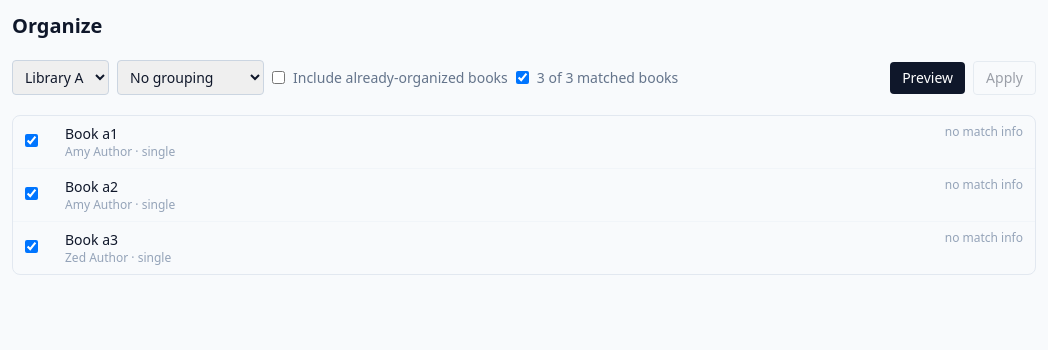
it: OrganizePage bulk selection › selects and clears a single group with its group checkbox
Check: the text "3 of 3 matched books" is shown, box [537, 68, 678, 88]
Select "Group by author" in the dropdown named "group books by" at [190, 78], box [117, 60, 264, 95]
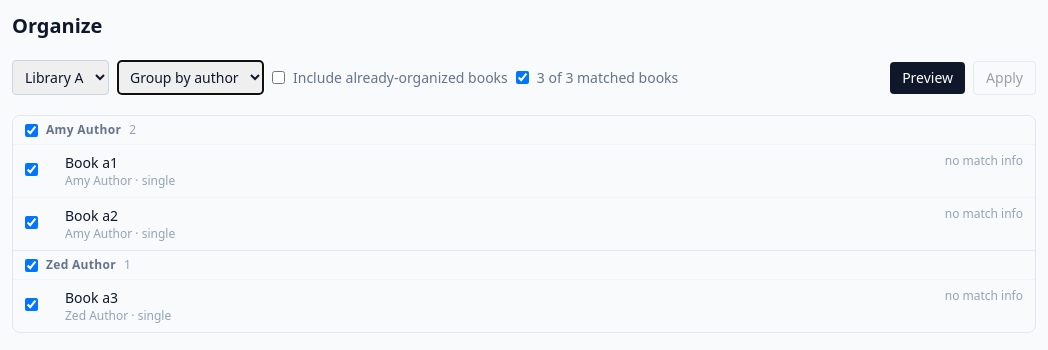
Click the checkbox named "select all in amy author" at [32, 130], box [25, 124, 38, 136]
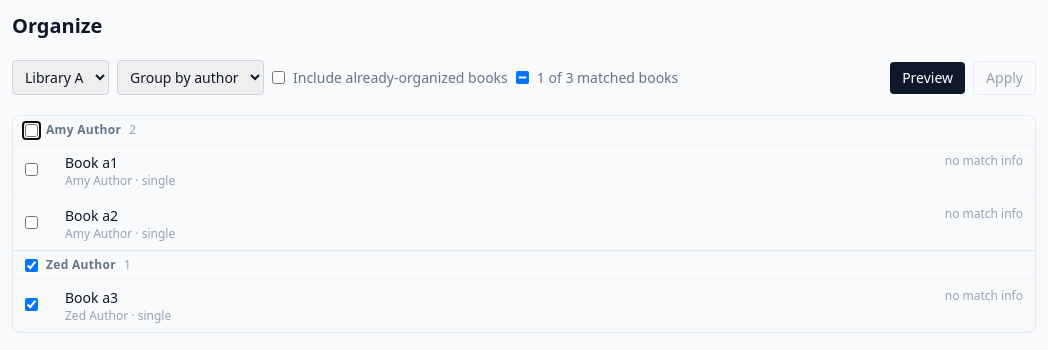
Check: the checkbox named "select book a3" is checked, box [25, 298, 38, 311]
Check: the text "1 of 3 matched books" is shown, box [537, 68, 678, 88]
Check: the checkbox named "select book a1" is not checked, box [25, 163, 38, 176]
Click the checkbox named "select all in amy author" at [32, 130], box [25, 124, 38, 136]
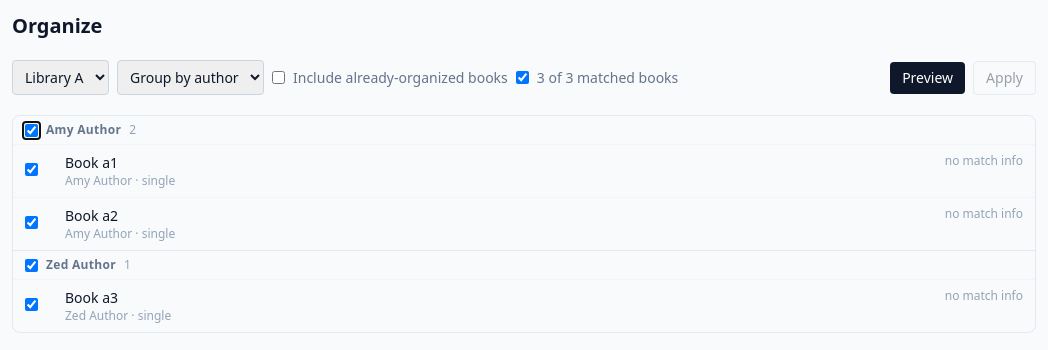
Check: the text "3 of 3 matched books" is shown, box [537, 68, 678, 88]
